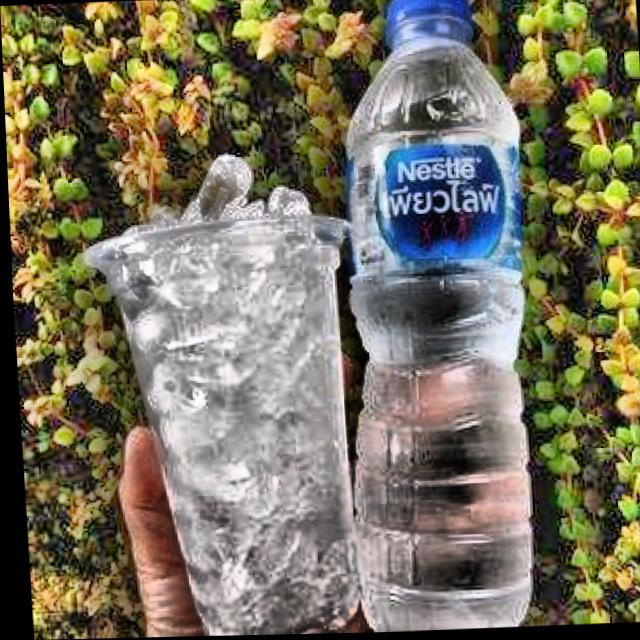Bottles: (311, 0, 566, 635)
